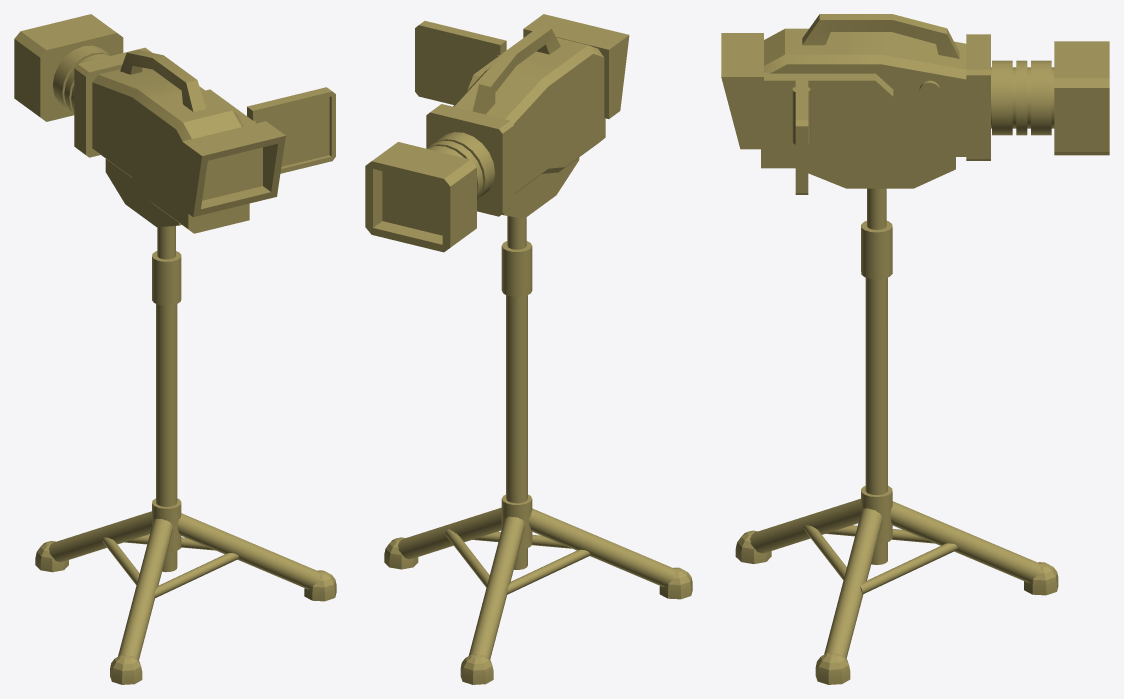
Rendered from Camera_Small.fbx.
3 renders of one model, left to right at view 1: azimuth 30°, elevation 25°; view 2: azimuth 150°, elevation 25°; view 3: azimuth 270°, elevation 25°, orthographic. The views are drawn at different scales.
Parts seen in each view (by area): view 1: Camera_Small; view 2: Camera_Small; view 3: Camera_Small.
Part boxes in pixels (x1,y1,x2,y2): Camera_Small: [14, 14, 336, 684]; Camera_Small: [365, 14, 692, 684]; Camera_Small: [721, 14, 1109, 684].
Size of the model in its own units: 67.66 by 137 by 81.78.
